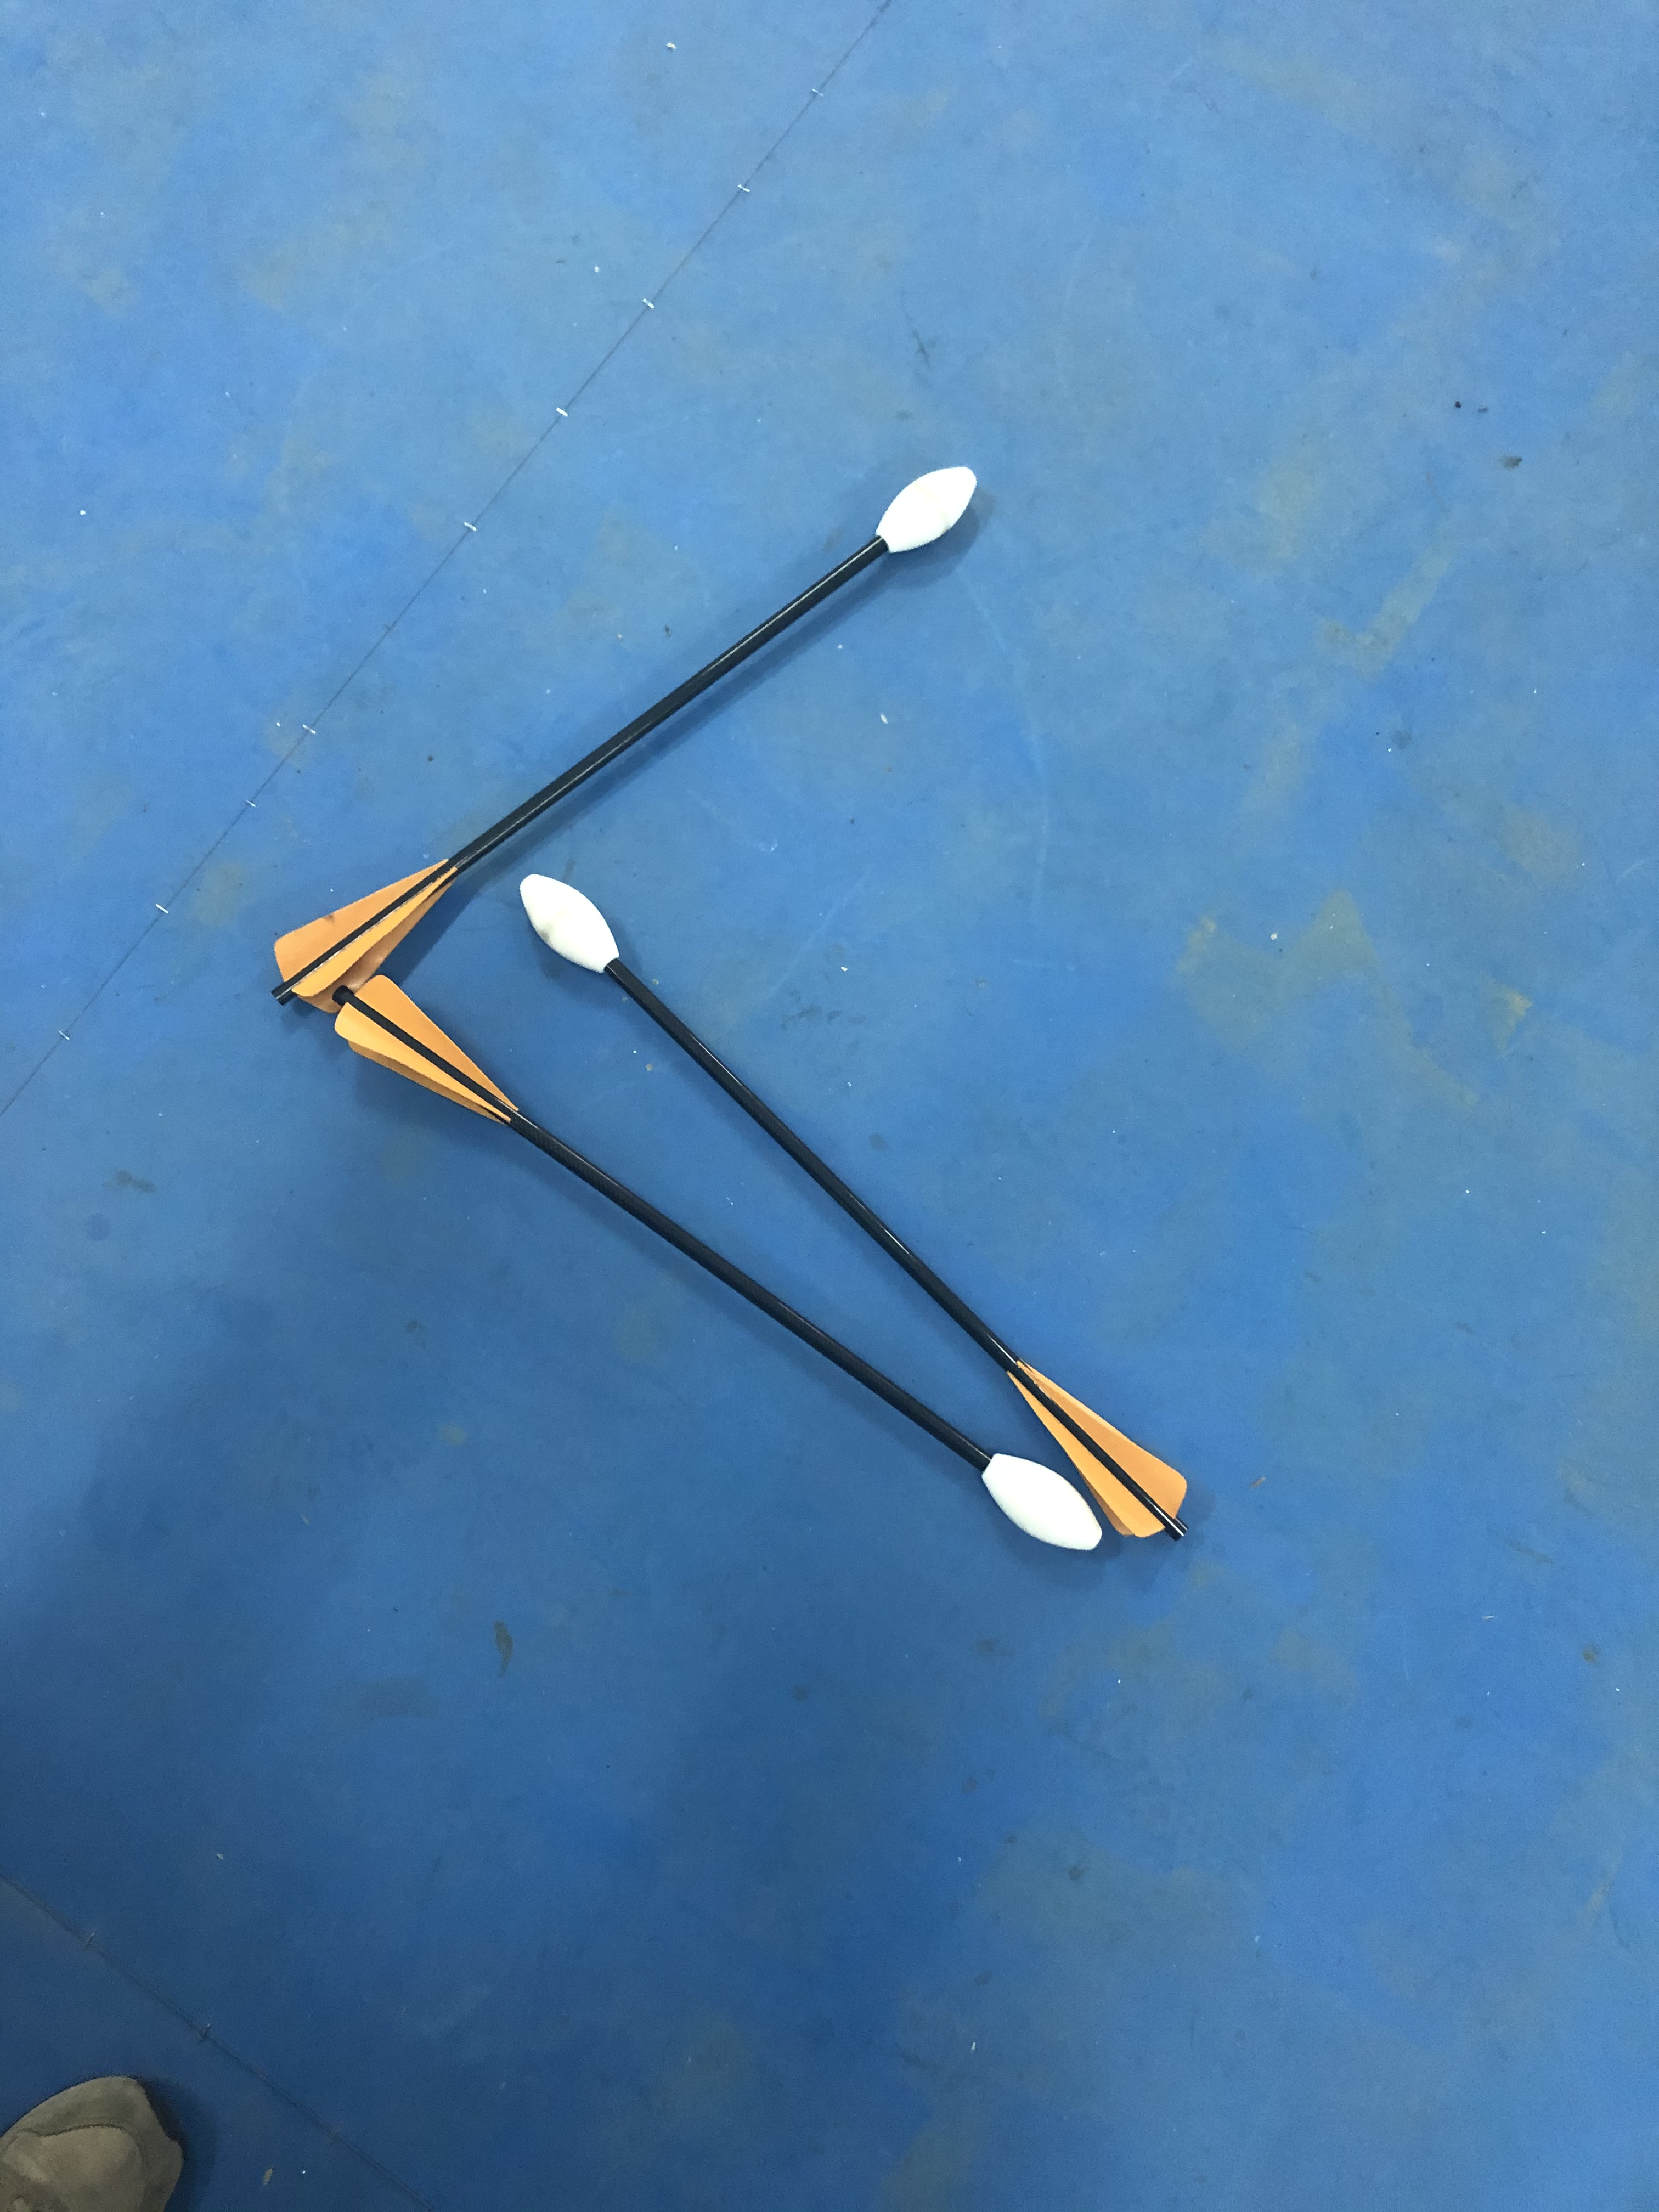arrow: (516, 867, 1194, 1547), (331, 988, 1101, 1555), (275, 469, 1012, 1014)
arrowFront: (976, 1449, 1101, 1555), (519, 864, 631, 979), (868, 463, 983, 557)
